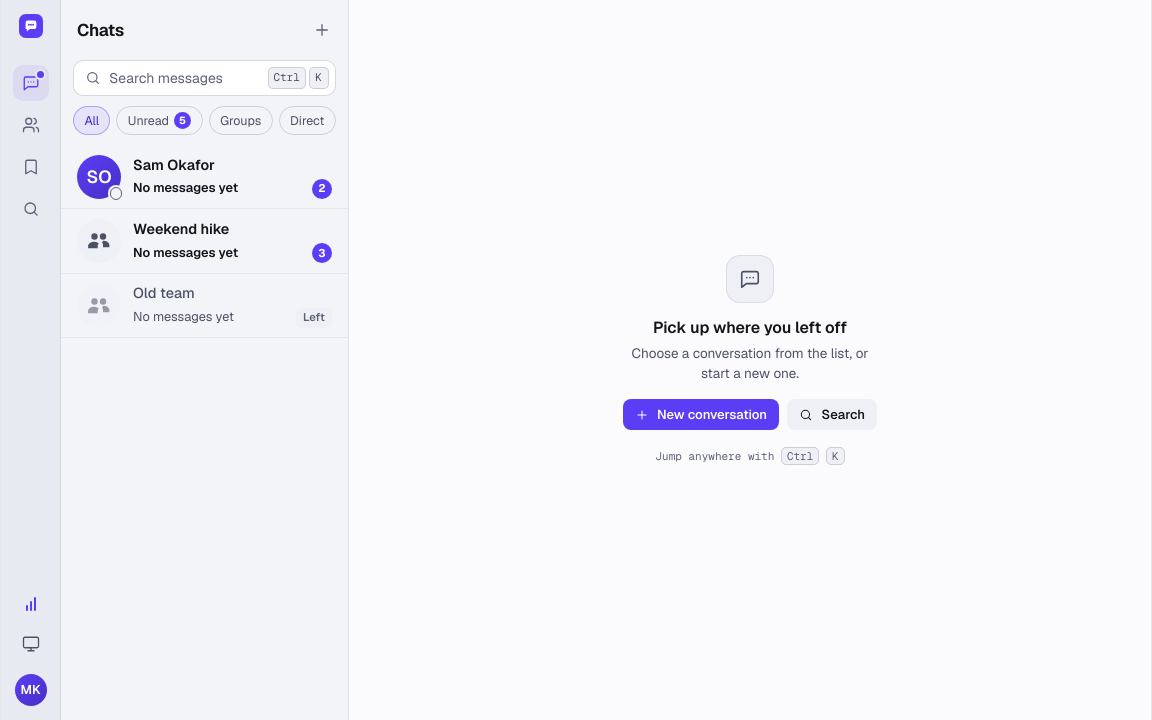
Test: AppShell on every screen size › switches the list to Contacts from the navigation
The width and height of the screenshot is (1152, 720).
Click the button named "Contacts" at coordinates (30, 124), box [12, 106, 48, 142]
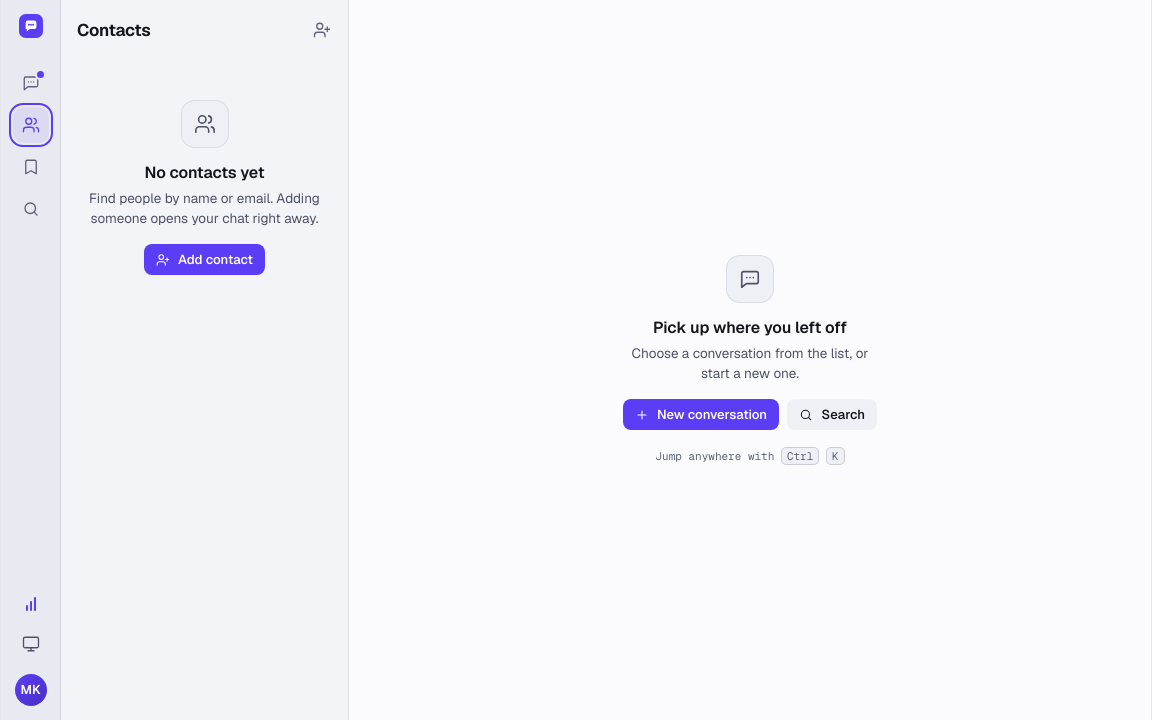
Expected: the heading "Contacts" is shown, [77, 18, 150, 42]
